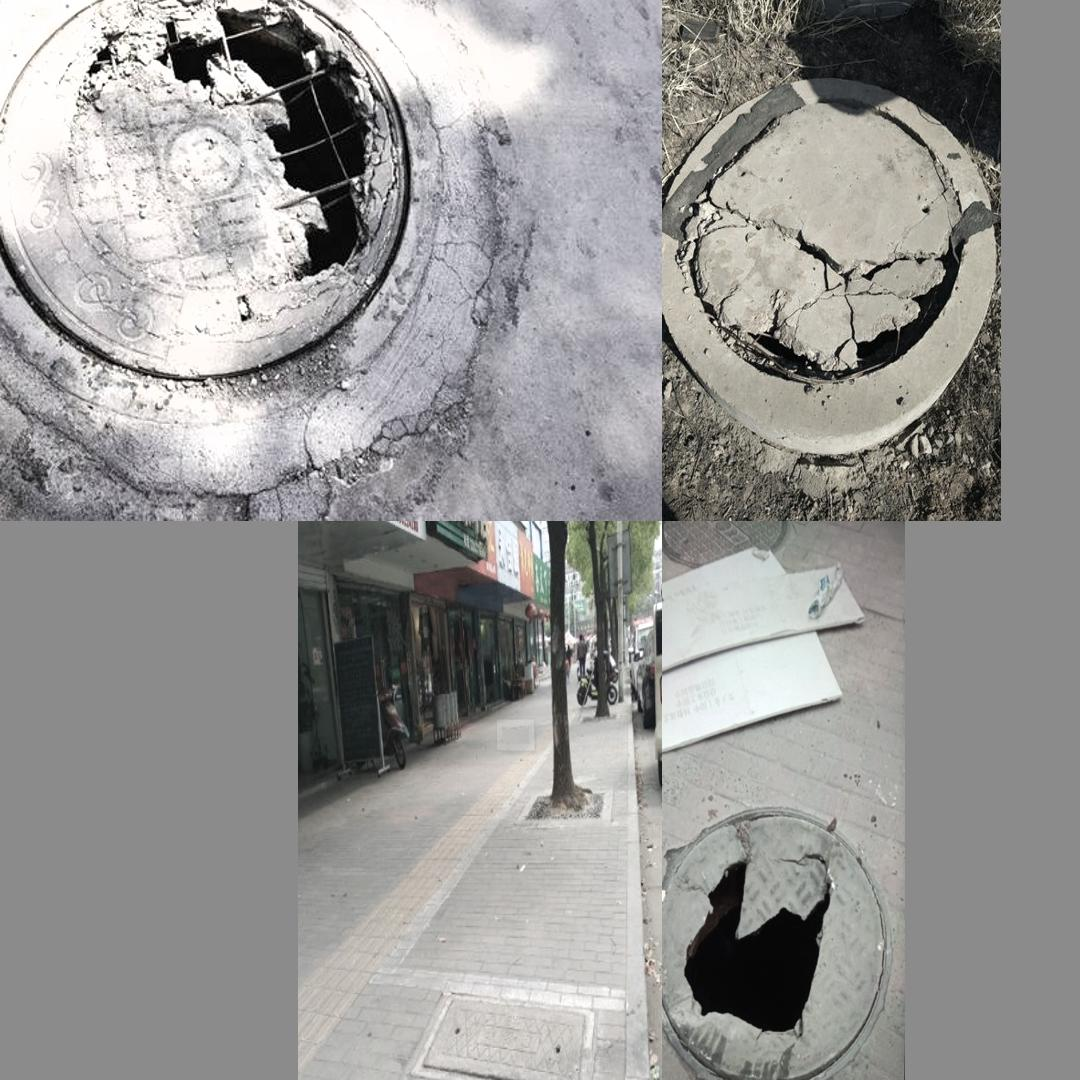broke: (0, 0, 534, 470), (672, 73, 985, 445), (662, 806, 891, 1080)
good: (411, 990, 595, 1080)
